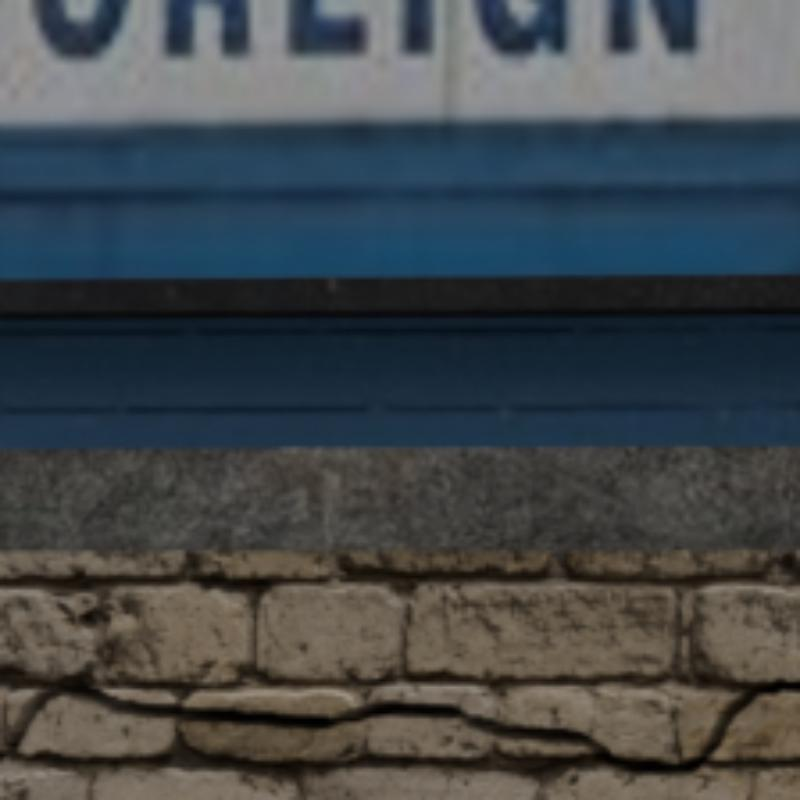pothole: (0, 682, 796, 771)
